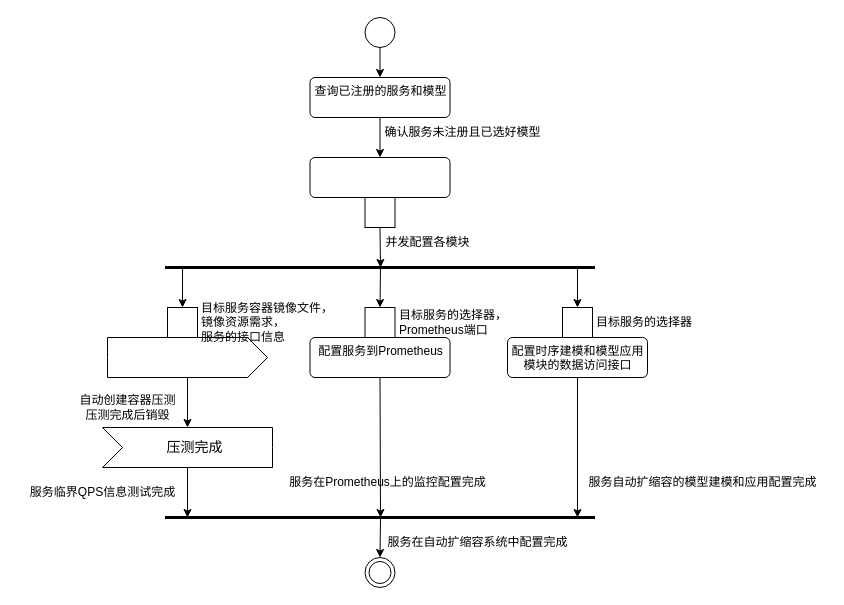
Image size: 844x605. Some labels were removed from this diagram. Here are the shapes that lost their labels. From the top down, the box of each, then its label:
(309, 156, 450, 198): 注册服务信息
(364, 196, 395, 228): 服务信息
(106, 336, 268, 378): 自动压测
